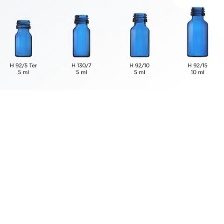bottle: (184, 3, 209, 58), (69, 11, 93, 58), (128, 12, 152, 59), (12, 18, 35, 57)
